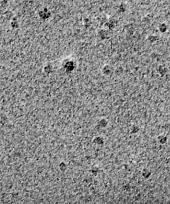rosette_object: (38, 7, 53, 21), (44, 64, 56, 74)
